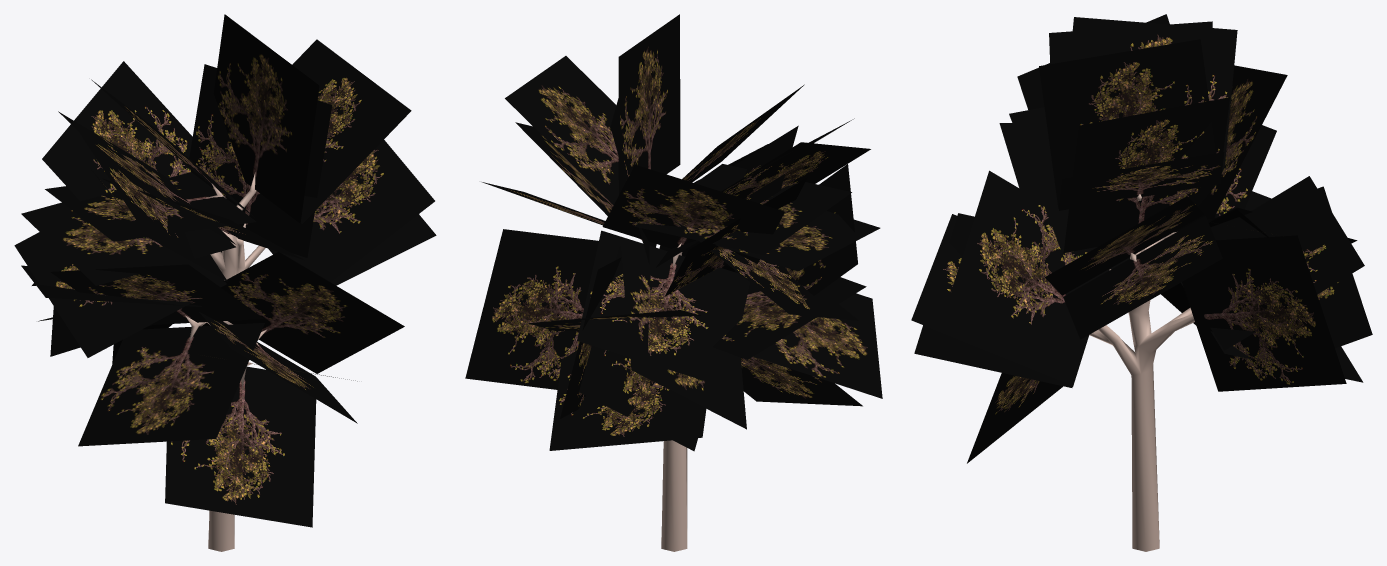
Rendered from tree50.glb.
3 renders of one model, left to right at view 1: azimuth 30°, elevation 25°; view 2: azimuth 150°, elevation 25°; view 3: azimuth 270°, elevation 25°, orthographic. The views are drawn at different scales.
Size of the model in its own units: 5.34 by 7 by 5.62.
2 materials, 1 textured.
